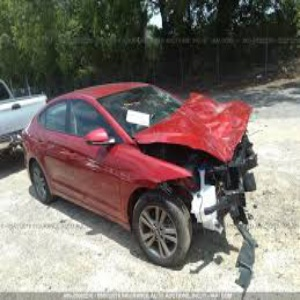bonnet: (157, 103, 250, 159)
bumper: (190, 174, 268, 246)
